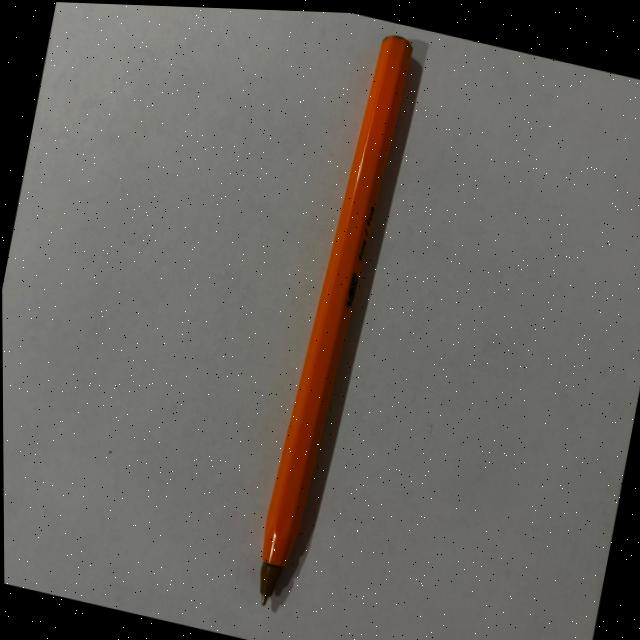pencil: (260, 32, 413, 605)
